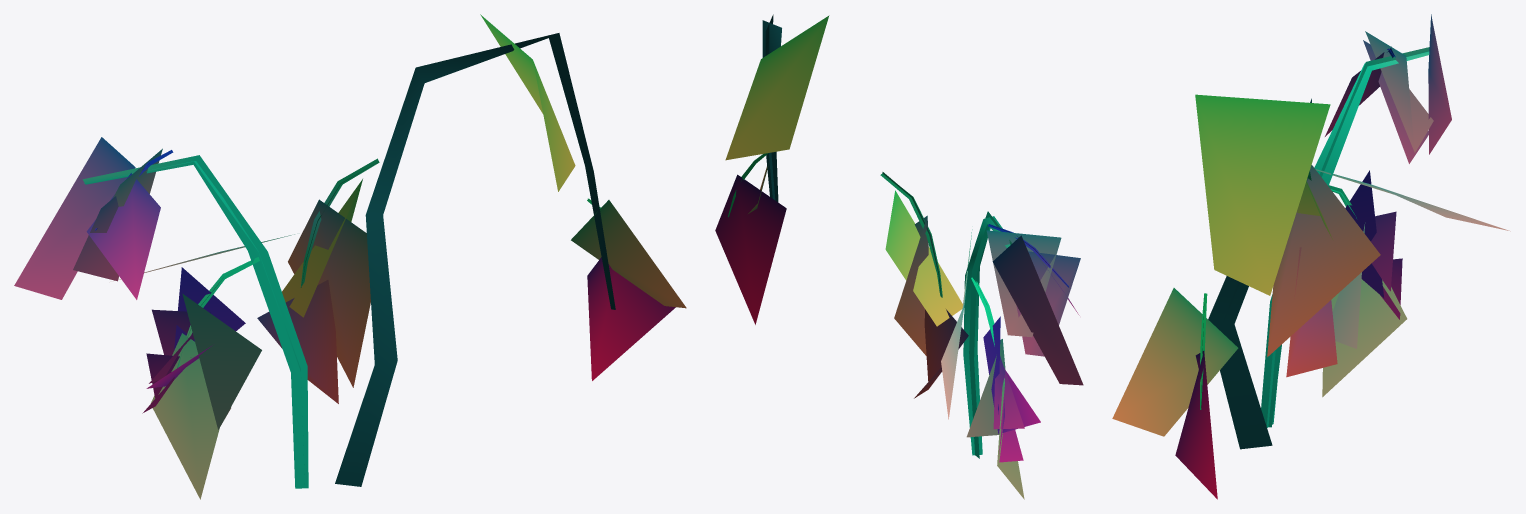
File: Creeping_Saltbush_thckfiqr_Mid_thckfiqr_VarE_LOD2.fbx
The picture shows the model from 3 angles, left to right: view 1: azimuth 30°, elevation 25°; view 2: azimuth 150°, elevation 25°; view 3: azimuth 270°, elevation 25°; orthographic projection. The views are drawn at different scales.
Visible parts, largest first — view 1: _cceb_VarE_LOD3; view 2: _cceb_VarE_LOD3; view 3: _cceb_VarE_LOD3.
Part boxes in pixels (x1,y1,x2,y2): _cceb_VarE_LOD3: (14,14,686,499); _cceb_VarE_LOD3: (715,14,1083,499); _cceb_VarE_LOD3: (1112,14,1510,499).
Bounding box in the file's own units: 22.01 × 16.66 × 13.46.
